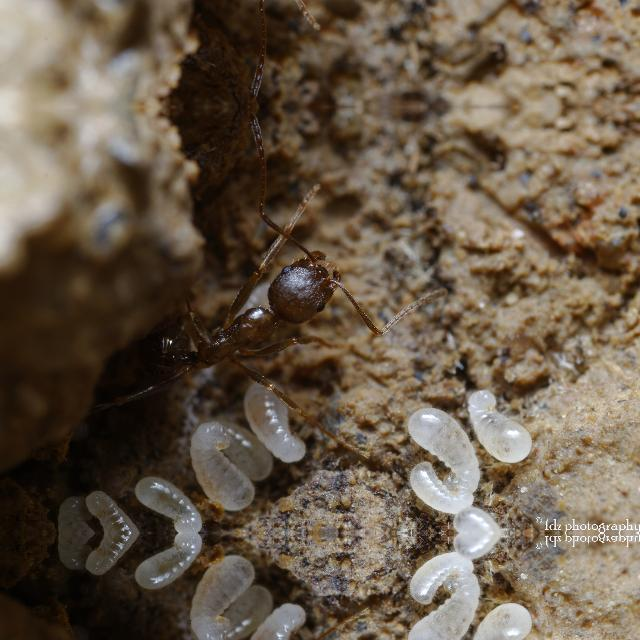Apheanogaster: (105, 229, 387, 407)
